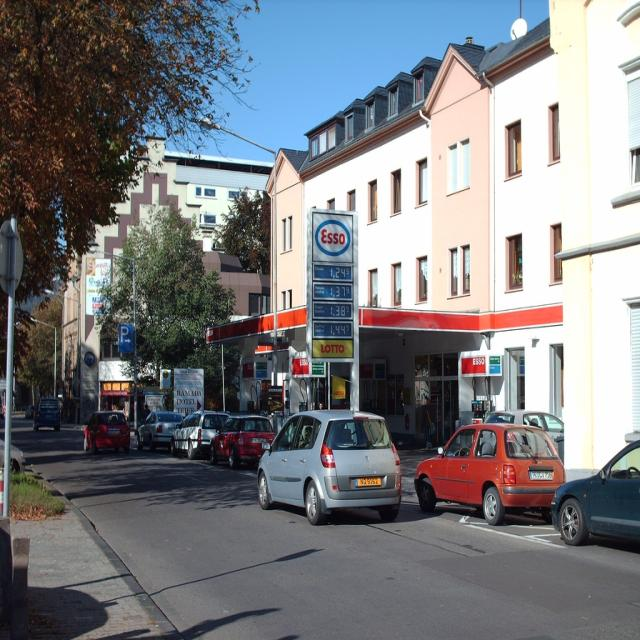esso: (315, 217, 354, 259)
